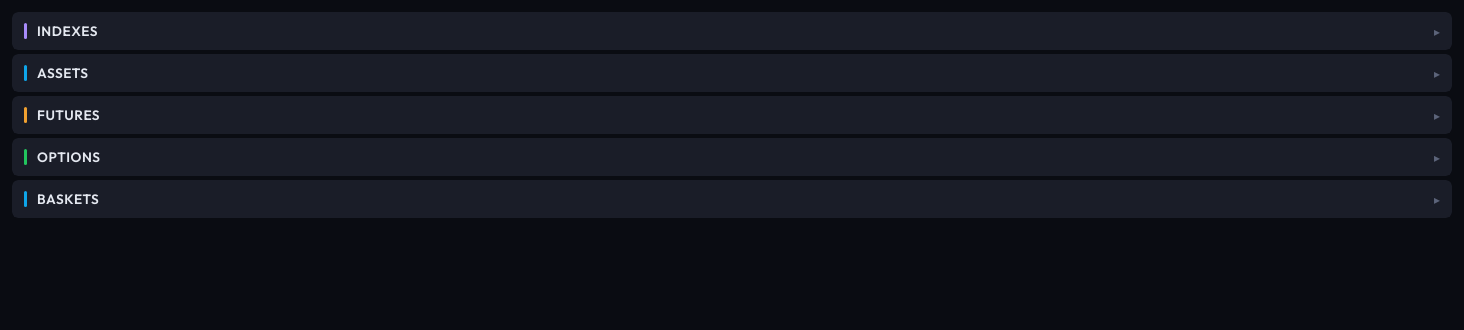
it: Root click emits selection › marks root as active when selection matches
Click the button "Options ▸" at [69, 157], box [12,138,1452,176]
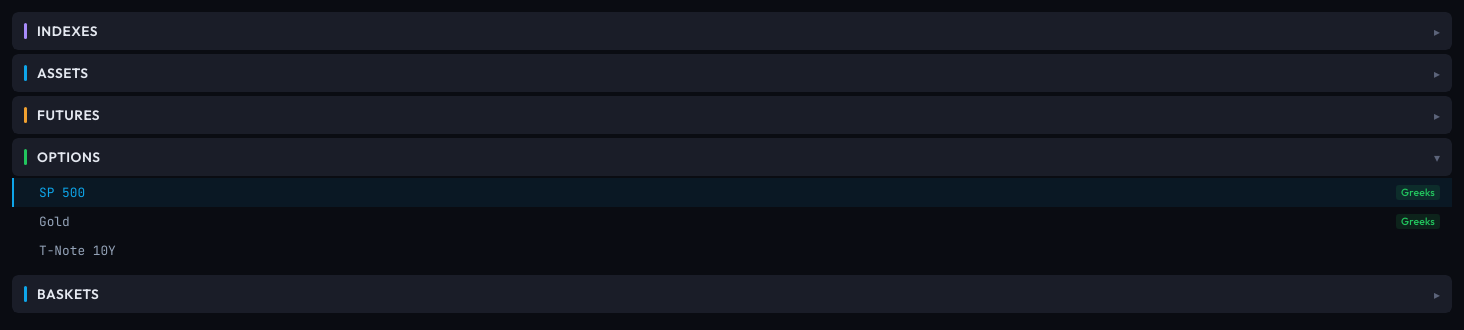
expect the text "SP 500" is shown: met, box [39,184,85,201]
